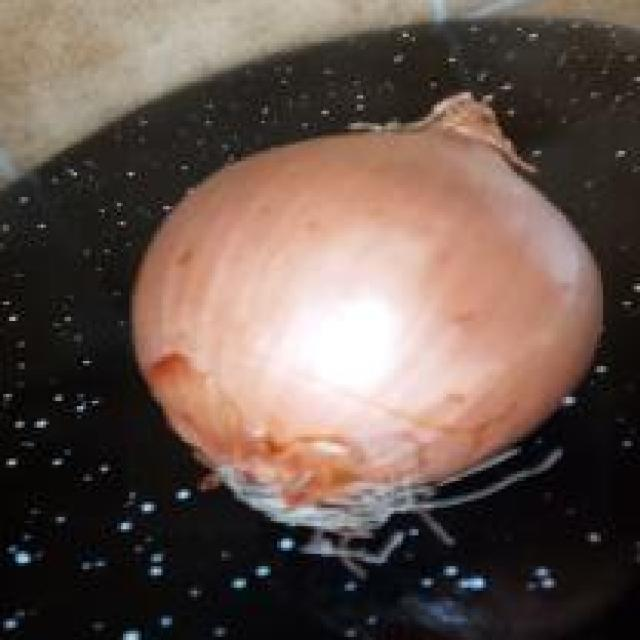onion: (123, 86, 612, 539)
